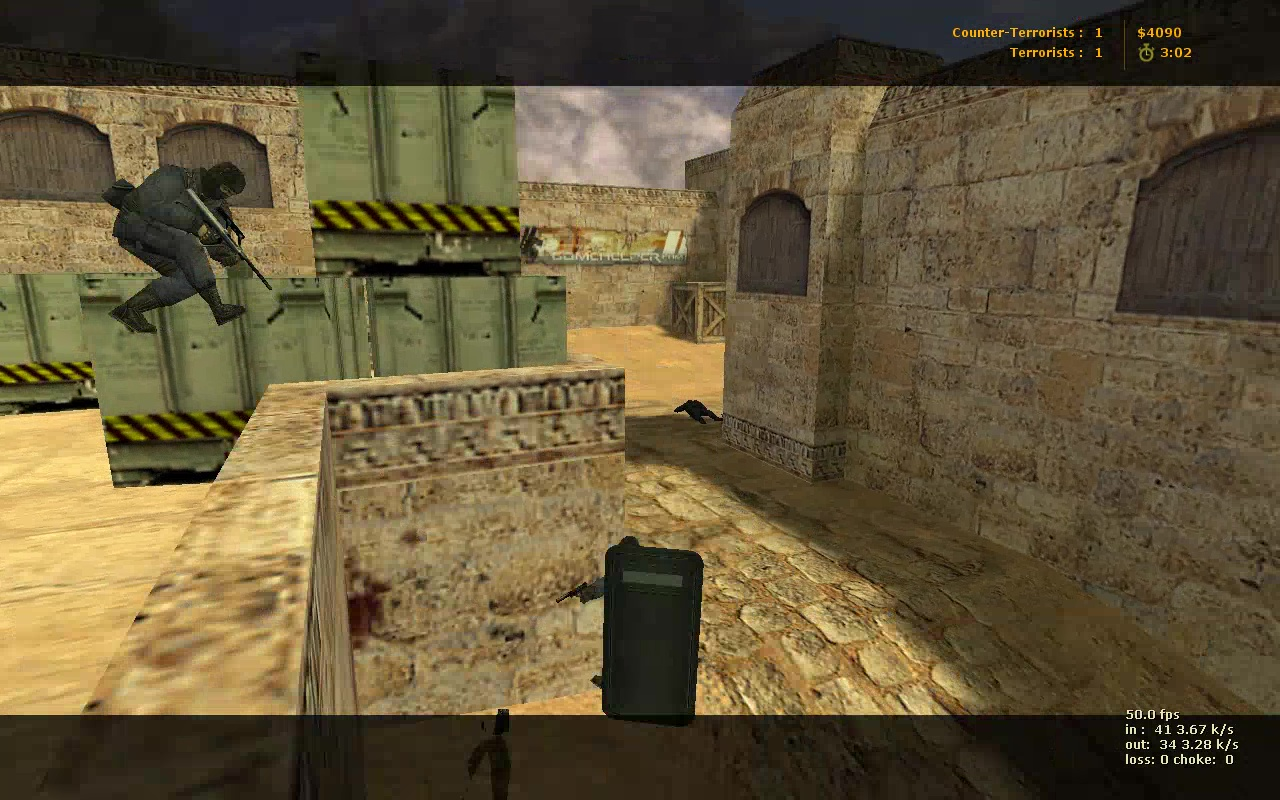ct: (101, 160, 258, 337)
dead: (674, 396, 722, 426)
